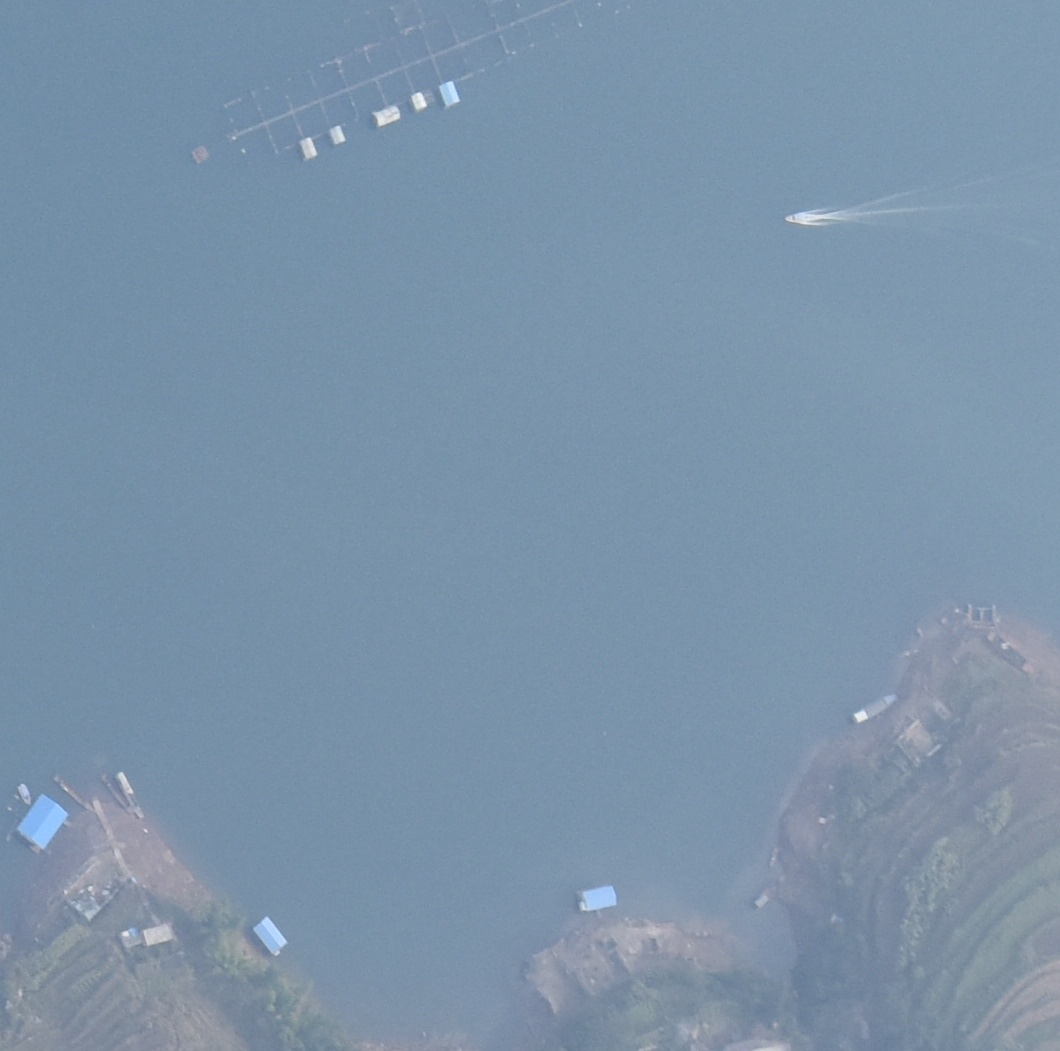building: (140, 922, 174, 948)
cultivation-mesh-cage: (217, 2, 649, 162)
prefabricated-house: (17, 793, 70, 851), (250, 914, 291, 956), (580, 887, 619, 911), (372, 103, 402, 128), (438, 79, 462, 108), (298, 136, 318, 160), (327, 124, 348, 146), (190, 144, 210, 166), (409, 92, 429, 112)
ship: (850, 692, 901, 725), (781, 210, 822, 227)
